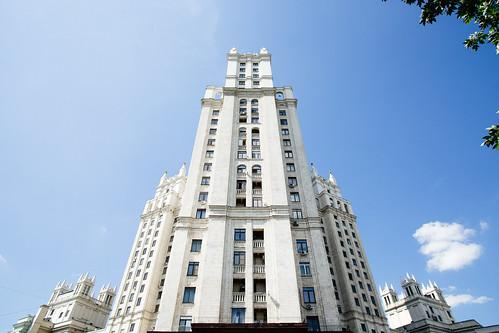building: (115, 43, 394, 333)
